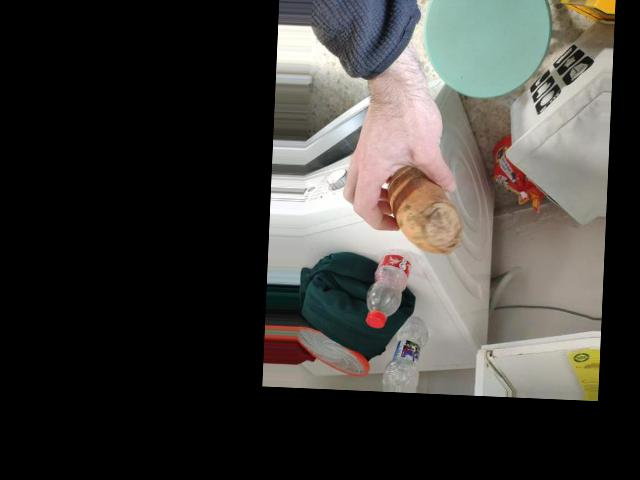sweet_potato: (386, 165, 462, 258)
